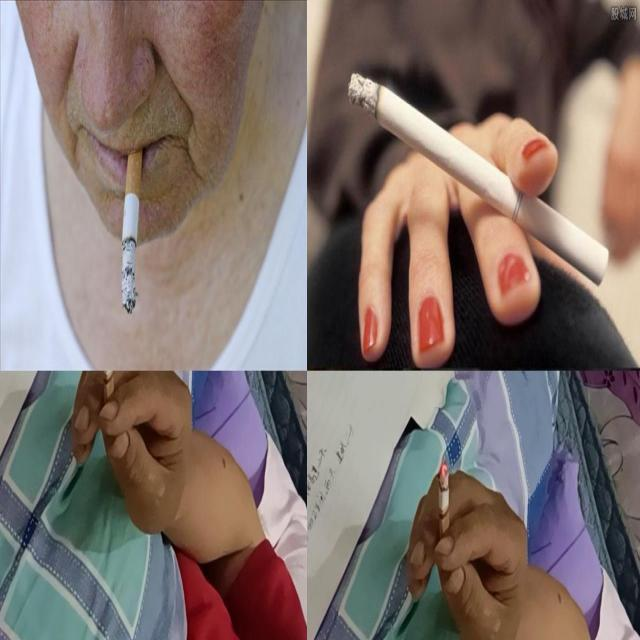cigarette: (348, 72, 610, 286), (122, 138, 144, 316), (438, 460, 451, 554), (102, 370, 116, 420)
